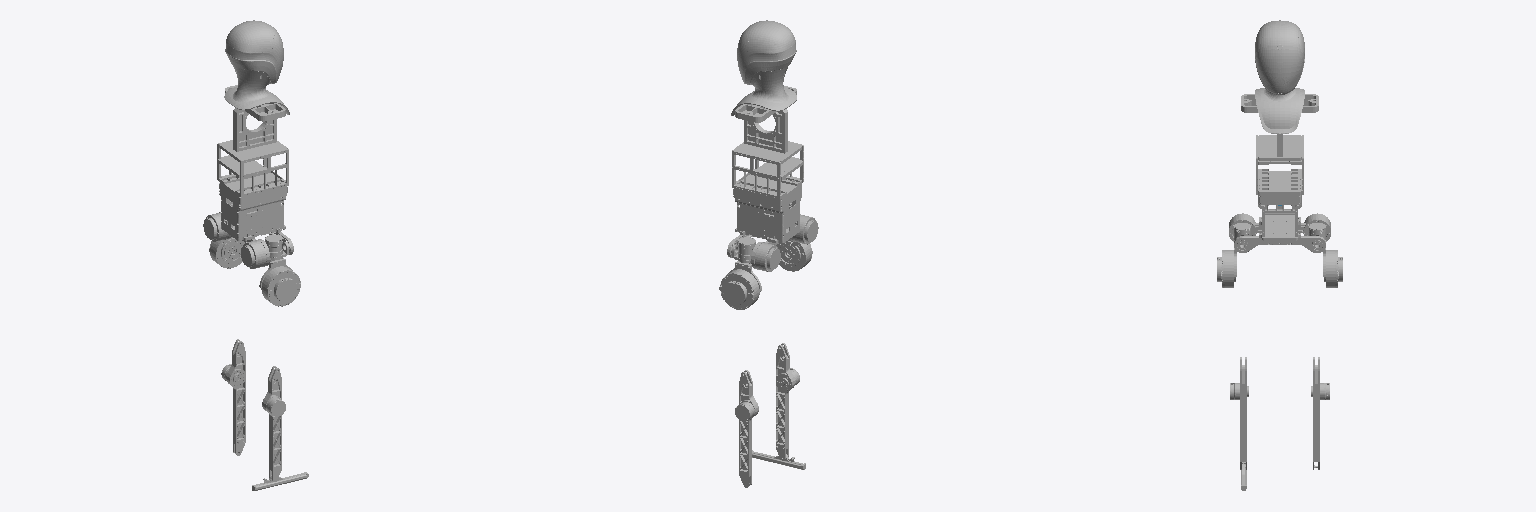
--- Facts derived from the render (not from the file) ---
3 views of the same robot in one strip: view 1: azimuth 30°, elevation 25°; view 2: azimuth 150°, elevation 25°; view 3: azimuth 270°, elevation 25° (orthographic).
Model robot with 16 links and 15 joints (10 revolute, 5 fixed), rooted at base_link, posed all joints at 0.
Links seen in each view (by area): view 1: base_link, leg_l4_link, leg_r4_link, leg_r2_link, leg_l2_link; view 2: base_link, leg_r4_link, leg_l4_link, leg_l2_link, leg_r2_link; view 3: base_link, leg_l4_link, leg_r4_link, leg_l2_link, leg_r2_link.
Boxes of the visible links, bbox=[...] form: base_link: bbox=[203, 20, 293, 268]; leg_l4_link: bbox=[221, 339, 245, 455]; leg_r4_link: bbox=[262, 366, 285, 481]; leg_r2_link: bbox=[259, 258, 300, 306]; leg_l2_link: bbox=[209, 237, 244, 268]; base_link: bbox=[727, 20, 818, 271]; leg_r4_link: bbox=[776, 343, 799, 460]; leg_l4_link: bbox=[735, 370, 758, 487]; leg_l2_link: bbox=[719, 261, 761, 309]; leg_r2_link: bbox=[776, 239, 812, 271]; base_link: bbox=[1229, 20, 1330, 252]; leg_l4_link: bbox=[1311, 357, 1329, 469]; leg_r4_link: bbox=[1230, 357, 1248, 469]; leg_l2_link: bbox=[1323, 248, 1342, 287]; leg_r2_link: bbox=[1217, 248, 1236, 287].
Bounding box of the posed robot: 0.2275 × 0.4072 × 1.59 m (x, y, z).
Meshes: 11 distinct files referenced, 8 mesh visuals loaded (8 binary STL); not drawn: 3 (reference not matched to a file when rendering).

The robot description file, URDF, robot "robot":
<?xml version="1.0" encoding="utf-8"?>
<robot name="">

  <!-- <link name="world" />
  <joint name ="weld" type="fixed">
    <parent link="world"/>
    <child link="base_link"/>
    <origin xyz="0 0 0.1"/>
  </joint> -->

  <gazebo>
    <plugin name="gazebo_ros_control" filename="libhunter_bipedal_hw_sim.so">
      <robotNamespace>/</robotNamespace>
      <robotParam>legged_robot_description</robotParam>
      <robotSimType>legged_gazebo/LeggedHWSim</robotSimType>
    </plugin>
  </gazebo>

  <gazebo>
    <plugin filename="libgazebo_ros_p3d.so" name="p3d_base_controller">
      <alwaysOn>true</alwaysOn>
      <updateRate>500.0</updateRate>
      <bodyName>base_link</bodyName>
      <topicName>ground_truth/state</topicName>
      <gaussianNoise>0</gaussianNoise>
      <frameName>world</frameName>
      <xyzOffsets>0 0 0</xyzOffsets>
      <rpyOffsets>0 0 0</rpyOffsets>
    </plugin>
  </gazebo>

  <link name="base_link">
    <inertial>
      <origin xyz="-0.00563454 -0.00001244 0.12092241" rpy="0 0 0" />
      <mass value="6.76592413" />
      <inertia ixx="0.29571510" ixy="0.00000157" ixz="-0.01321787" iyy="0.28435720" iyz="-0.00000827" izz="0.04562067" />
    </inertial>
    <visual>
      <origin xyz="0 0 0" rpy="0 0 0" />
      <geometry>
        <mesh
        filename="../meshes/base.STL" />
      </geometry>
      <material name="">
        <color rgba="0.75294 0.75294 0.75294 1" />
      </material>
    </visual>
    <collision>
      <origin xyz="0 0 0.3" rpy="0 0 0" />
      <geometry>
        <box size="0.24 0.2 0.68" /><!--宽 长 高!-->
      </geometry>
    </collision>
  </link>

  <!-- <joint name="battery_joint" type="fixed">
    <origin rpy="0. 0. 0." xyz="0. 0. 0"/>
    <parent link="base_link"/>
    <child link="battery_link"/>
  </joint>

  <link
    name="battery_link">
    <inertial>
      <origin xyz="0.00515714 0 -0.04298686" rpy="0 0 0" />
      <mass value="1.69361037" />
      <inertia ixx="0.00212168" ixy="0.00000006" ixz="0.00001365" iyy="0.00365784" iyz="-0.00000003" izz="0.0046202" />
    </inertial>
  </link> -->

  <!-- Imu is fixed to the base link -->
  <joint name="imu_joint" type="fixed">
    <origin rpy="0. 0. 0." xyz="0. 0. 0"/>
    <parent link="base_link"/>
    <child link="imu_link"/>
  </joint>
  <!-- Imu link -->
  <link name="imu_link">
    <inertial>
      <mass value="0.01"/>
      <origin rpy="0 0 0" xyz="0 0 0"/>
      <inertia ixx="0.000001" ixy="0" ixz="0" iyy="0.000001" iyz="0" izz="0.000001"/>
    </inertial>
    <visual>
      <origin rpy="0 0 0" xyz="0 0 0"/>
      <geometry>
        <box size="0.015 0.015 0.004"/>
      </geometry>
    </visual>
    <material name="orange">
      <color rgba="255 108 10 255"/>
    </material>
  </link>
  <gazebo reference="imu_joint">
    <disableFixedJointLumping>true</disableFixedJointLumping>
  </gazebo>

  <!-- ************************************************************ -->
  <!-- ************************ Left Leg ************************** -->
  <!-- ************************************************************ -->

  <!-- ************* part 1 *************** -->
  <joint name="leg_l1_joint" type="revolute">
    <origin xyz="0.0065 0.12 -0.1166" rpy="0 0 0" />
    <parent link="base_link" />
    <child link="leg_l1_link" />
    <axis xyz="1 0 0" />
    <dynamics damping="0.00" friction="0.2"/>
    <limit lower="-0.2" upper="0.5" effort="12.1" velocity="25.1" />
  </joint>
  <link name="leg_l1_link">
    <inertial>
      <origin xyz="0.00124797 0.00000602 0.00247008" rpy="0 0 0" />
      <mass value="0.48411139" />
      <inertia ixx="0.00024891" ixy="0.00000022" ixz="0.00000644" iyy="0.00036981" iyz="0.00000091" izz="0.00032850" />
    </inertial>
    <visual>
      <origin xyz="0 0 0" rpy="0 0 0" />
      <geometry>
        <mesh filename="../meshes/leg_l1.STL" />
      </geometry>
      <material name="">
        <color rgba="0.75294 0.75294 0.75294 1" />
      </material>
    </visual>
    <collision>
      <origin xyz="-0.019 -0.001 0" rpy="1.57 0 1.57" />
      <geometry>
        <box size="0.06 0.07 0.155" />
      </geometry>
    </collision>
  </link>

  <!-- ************* part 2 *************** -->
  <joint name="leg_l2_joint" type="revolute">
    <origin xyz="0 0 -0.0295" rpy="0 0 0" />
    <parent link="leg_l1_link" />
    <child link="leg_l2_link" />
    <axis xyz="0 0 1" />
    <dynamics damping="0.00" friction="0.2"/>
    <limit lower="-0.5" upper="1" effort="36.1" velocity="8.1" />
  </joint>
  <link name="leg_l2_link">
    <inertial>
      <origin xyz="0 0.04198981 -0.07596353" rpy="0 0 0" />
      <mass value="1.48516585" />
      <inertia ixx="0.00213438" ixy="0" ixz="0.00000003" iyy="0.00315551" iyz="0.00023219" izz="0.00173118" />
    </inertial>
    <visual>
      <origin xyz="0 0 0" rpy="0 0 0" />
      <geometry>
        <mesh filename="../meshes/leg_l2.STL" />
      </geometry>
      <material name="">
        <color rgba="0.75294 0.75294 0.75294 1" />
      </material>
    </visual>
    <collision>
      <origin xyz="0 0.0046 -0.07" rpy="1.57 0 0" />
      <geometry>
        <cylinder length="0.146" radius="0.065"/>
      </geometry>
    </collision>
  </link>

  <!-- ************* part 3 *************** -->
  <joint name="leg_l3_joint" type="revolute">
    <origin xyz="0.0 -0.0035 -0.081" rpy="0 0 0" />
    <parent link="leg_l2_link" />
    <child link="leg_l3_link" />
    <axis xyz="0 -1 0" />
    <dynamics damping="0.00" friction="0.2"/>
    <limit lower="-0.8" upper="1.2" effort="150.1" velocity="12.6" />
  </joint>
  <link name="leg_l3_link">
    <inertial>
      <origin xyz="0.00386769 -0.02792999 -0.04011025" rpy="0 0 0" />
      <mass value="2.38394353" />
      <inertia ixx="0.02170874" ixy="-0.00020223" ixz="0.00141826" iyy="0.02270032" iyz="0.00207653" izz="0.00378059" />
    </inertial>
    <visual>
      <origin xyz="0 0 0" rpy="0 0 0" />
      <geometry>
        <mesh filename="../meshes/leg_l3.STL" />
      </geometry>
      <material name="">
        <color rgba="0.75294 0.75294 0.75294 1" />
      </material>
    </visual>
    <collision>
      <origin xyz="0.015 0.0 -0.17" rpy="1.57 0 0" />
      <geometry>
        <box size="0.06 0.25 0.05" />
      </geometry>
    </collision>
  </link>

  <!-- ************* part 4 *************** -->
  <joint name="leg_l4_joint" type="revolute">
    <origin xyz="0 0 -0.35" rpy="0 0 0" />
    <parent link="leg_l3_link" />
    <child link="leg_l4_link" />
    <axis xyz="0 1 0" />
    <dynamics damping="0" friction="0.2"/>
    <limit lower="0" upper="1.5" effort="150.1" velocity="12.6" />
  </joint>
  <link name="leg_l4_link">
    <inertial>
      <origin xyz="-0.00223740 0.00243432 -0.11735483" rpy="0 0 0" />
      <mass value="0.760136154" />
      <!-- <mass value="0.80136154" /> -->
      <inertia ixx="0.00708282" ixy="-0.0000173" ixz="0.00003185" iyy="0.00714764" iyz="-0.00015267" izz="0.0003965" />
    </inertial>
    <visual>
      <origin xyz="0 0 0" rpy="0 0 0" />
      <geometry>
        <mesh filename="../meshes/leg_l4.STL" />
      </geometry>
      <material name="">
        <color rgba="0.75294 0.75294 0.75294 1" />
      </material>
    </visual>
    <collision>
      <origin xyz="0 0 -0.14" rpy="1.57 0 0" />
      <geometry>
        <box size="0.041 0.28 0.03" />
      </geometry>
    </collision>
    <collision>
      <origin xyz="-0.011 0.012 -0.08" rpy="1.57 0 0" />
      <geometry>
        <cylinder length="0.07" radius="0.034"/>
      </geometry>
    </collision>
  </link>

  <!-- ************* part 5 *************** -->
  <joint name="leg_l5_joint" type="revolute">
    <origin xyz="0 0 -0.35" rpy="0 0 0" />
    <parent link="leg_l4_link" />
    <child link="leg_l5_link" />
    <axis xyz="0 -1 0" />
    <dynamics damping="0.00" friction="0.2"/>
    <limit lower="-1.1" upper="1.1" effort="36.1" velocity="8.1" />
  </joint>
  <link name="leg_l5_link">
    <inertial>
      <origin xyz="0.02200082 0 -0.01610384" rpy="0 0 0" />
      <mass value="0.11947294" />
      <inertia ixx="0.00000829" ixy="0" ixz="0.00000461" iyy="0.0003708" iyz="0" izz="0.00036831" />
    </inertial>
    <visual>
      <origin xyz="0 0 0" rpy="0 0 0" />
      <geometry>
        <mesh filename="../meshes/leg_l5.STL" />
      </geometry>
      <material name="">
        <color rgba="0.75294 0.75294 0.75294 1" />
      </material>
    </visual>
    <collision>
      <origin xyz="0.02 0 -0.0102" rpy="1.57 0 0" />
      <geometry>
        <box size="0.21 0.0345 0.0175" />
      </geometry>
    </collision>
  </link>

  <joint name="leg_l5_fixed_1" type="fixed">
    <origin xyz="0.11 0 -0.01" rpy="0 0 0" />
    <parent link="leg_l5_link" />
    <child link="leg_l_f1_link" />
  </joint>
  <link name="leg_l_f1_link">
    <inertial>
      <mass value="0.01" />
      <inertia ixx="0.000001" ixy="0" ixz="0" iyy="0.000001" iyz="0" izz="0.000001" />
    </inertial>
    <visual>
      <origin rpy="0 0 0" xyz="0 0 0"/>
      <geometry>
        <sphere radius="0.001"/>
      </geometry>
    </visual>
    <collision>
      <origin rpy="0 0 0" xyz="0 0 0"/>
      <geometry>
        <sphere radius="0.001"/>
      </geometry>
    </collision>
  </link>

  <joint name="leg_l5_fixed_2" type="fixed">
    <origin xyz="-0.07 0 -0.01" rpy="0 0 0" />
    <parent link="leg_l5_link" />
    <child link="leg_l_f2_link" />
  </joint>
  <link name="leg_l_f2_link">
    <inertial>
      <mass value="0.01" />
      <inertia ixx="0.000001" ixy="0" ixz="0" iyy="0.000001" iyz="0" izz="0.000001" />
    </inertial>
    <visual>
      <origin rpy="0 0 0" xyz="0 0 0"/>
      <geometry>
        <sphere radius="0.001"/>
      </geometry>
    </visual>
    <collision>
      <origin rpy="0 0 0" xyz="-0 0 0"/>
      <geometry>
        <sphere radius="0.001"/>
      </geometry>
    </collision>
  </link>

  <gazebo reference="leg_l1_link">
    <mu1>0.6</mu1>
    <mu2>0.6</mu2>
    <self_collide>1</self_collide>
  </gazebo>
  <gazebo reference="leg_l2_link">
    <mu1>0.6</mu1>
    <mu2>0.6</mu2>
    <self_collide>1</self_collide>
  </gazebo>
  <gazebo reference="leg_l3_link">
    <mu1>0.6</mu1>
    <mu2>0.6</mu2>
    <self_collide>1</self_collide>
  </gazebo>
  <gazebo reference="leg_l4_link">
    <mu1>0.6</mu1>
    <mu2>0.6</mu2>
    <self_collide>1</self_collide>
  </gazebo>
  <gazebo reference="leg_l5_link">
    <mu1>1.5</mu1>
    <mu2>1.5</mu2>
    <self_collide>1</self_collide>
    <kp value="1000000.0"/>
    <kd value="100.0"/>
    <maxVel>1.0</maxVel>
    <minDepth>0.00</minDepth>
  </gazebo>
  <gazebo reference="leg_l_f1_link">
    <mu1>1.5</mu1>
    <mu2>1.5</mu2>
    <self_collide>1</self_collide>
    <kp value="1000000.0"/>
    <kd value="100.0"/>
    <maxVel>1.0</maxVel>
    <minDepth>0.00</minDepth>
  </gazebo>
  <gazebo reference="leg_l_f2_link">
    <mu1>1.5</mu1>
    <mu2>1.5</mu2>
    <self_collide>1</self_collide>
    <kp value="1000000.0"/>
    <kd value="100.0"/>
    <maxVel>1.0</maxVel>
    <minDepth>0.00</minDepth>
  </gazebo>

  <transmission name="leg_l1_tran">
    <type>transmission_interface/SimpleTransmission</type>
    <joint name="leg_l1_joint">
      <hardwareInterface>hardware_interface/EffortJointInterface</hardwareInterface>
    </joint>
    <actuator name="leg_l1_motor">
      <hardwareInterface>hardware_interface/EffortJointInterface</hardwareInterface>
      <mechanicalReduction>1</mechanicalReduction>
    <maxVelocity>1.484</maxVelocity><!-- 85rpm -->
	  <maxEffort>36.0</maxEffort><!-- 36Nm -->
    </actuator>
  </transmission>

  <transmission name="leg_l2_tran">
    <type>transmission_interface/SimpleTransmission</type>
    <joint name="leg_l2_joint">
      <hardwareInterface>hardware_interface/EffortJointInterface</hardwareInterface>
    </joint>
    <actuator name="leg_l2_motor">
      <hardwareInterface>hardware_interface/EffortJointInterface</hardwareInterface>
      <mechanicalReduction>1</mechanicalReduction>
    <maxVelocity>1.484</maxVelocity><!-- 160rpm -->
	  <maxEffort>36.0</maxEffort><!-- 94Nm -->
    </actuator>
  </transmission>

  <transmission name="leg_l3_tran">
    <type>transmission_interface/SimpleTransmission</type>
    <joint name="leg_l3_joint">
      <hardwareInterface>hardware_interface/EffortJointInterface</hardwareInterface>
    </joint>
    <actuator name="leg_l3_motor">
      <hardwareInterface>hardware_interface/EffortJointInterface</hardwareInterface>
      <mechanicalReduction>1</mechanicalReduction>
    <maxVelocity>2.6545</maxVelocity><!-- 160rpm -->
	  <maxEffort>150.0</maxEffort><!-- 94Nm -->
    </actuator>
  </transmission>

  <transmission name="leg_l4_tran">
    <type>transmission_interface/SimpleTransmission</type>
    <joint name="leg_l4_joint">
      <hardwareInterface>hardware_interface/EffortJointInterface</hardwareInterface>
    </joint>
    <actuator name="leg_l4_motor">
      <hardwareInterface>hardware_interface/EffortJointInterface</hardwareInterface>
      <mechanicalReduction>1</mechanicalReduction>
    <maxVelocity>2.6545</maxVelocity><!-- 85rpm -->
	<maxEffort>150.0</maxEffort><!-- 36Nm -->
    </actuator>
  </transmission>

  <transmission name="leg_l5_tran">
    <type>transmission_interface/SimpleTransmission</type>
    <joint name="leg_l5_joint">
      <hardwareInterface>hardware_interface/EffortJointInterface</hardwareInterface>
    </joint>
    <actuator name="leg_l5_motor">
      <hardwareInterface>hardware_interface/EffortJointInterface</hardwareInterface>
      <mechanicalReduction>1</mechanicalReduction>
    </actuator>
  </transmission>
  <!-- ************************************************************ -->
  <!-- ************************ Right Leg ************************** -->
  <!-- ************************************************************ -->

  <!-- ************* part 1 *************** -->
  <joint name="leg_r1_joint" type="revolute">
    <origin xyz="0.0065 -0.12 -0.1166" rpy="0 0 0" />
    <parent link="base_link" />
    <child link="leg_r1_link" />
    <axis xyz="1 0 0" />
    <dynamics damping="0.00" friction="0.2"/>
    <limit lower="-0.5" upper="0.2" effort="12.1" velocity="25.1" />
  </joint>
  <link name="leg_r1_link">
    <inertial>
      <origin xyz="0.00126545 -0.00000555 0.00247008" rpy="0 0 0" />
      <mass value="0.48411139" />
      <inertia ixx="0.00024879" ixy="-0.00000081" ixz="0.00000629" iyy="0.00036991" iyz="-0.00000142" izz="0.00032847" />
    </inertial>
    <visual>
      <origin xyz="0 0 0" rpy="0 0 0" />
      <geometry>
        <mesh filename="../meshes/leg_r1.STL" />
      </geometry>
      <material name="">
        <color rgba="0.75294 0.75294 0.75294 1" />
      </material>
    </visual>
    <collision>
      <origin xyz="-0.019 -0.001 0" rpy="1.57 0 1.57" />
      <geometry>
        <box size="0.06 0.07 0.155" />
      </geometry>
    </collision>
  </link>

  <!-- ************* part 2 *************** -->
  <joint name="leg_r2_joint" type="revolute">
    <origin xyz="0 0 -0.0295" rpy="0 0 0" />
    <parent link="leg_r1_link" />
    <child link="leg_r2_link" />
    <axis xyz="0 0 1" />
    <dynamics damping="0.00" friction="0.2"/>
    <limit lower="-1" upper="0.5" effort="36.1" velocity="8.1" />
  </joint>
  <link name="leg_r2_link">
    <inertial>
      <origin xyz="0 -0.04198981 -0.07596353" rpy="0 0 0" />
      <mass value="1.48516585" />
      <inertia ixx="0.00213438" ixy="0" ixz="-0.00000003" iyy="0.00315551" iyz="-0.00023219" izz="0.00173118" />
    </inertial>
    <visual>
      <origin xyz="0 0 0" rpy="0 0 0" />
      <geometry>
        <mesh filename="../meshes/leg_r2.STL" />
      </geometry>
      <material name="">
        <color rgba="0.75294 0.75294 0.75294 1" />
      </material>
    </visual>
    <collision>
      <origin xyz="0 -0.0033 -0.07" rpy="1.57 0 0" />
      <geometry>
        <cylinder length="0.146" radius="0.065"/>
      </geometry>
    </collision>
  </link>

  <!-- ************* part 3 *************** -->
  <joint name="leg_r3_joint" type="revolute">
    <origin xyz="0 0.0035 -0.081" rpy="0 0 0" />
    <parent link="leg_r2_link" />
    <child link="leg_r3_link" />
    <axis xyz="0 1 0" />
    <dynamics damping="0.00" friction="0.2"/>
    <limit lower="-1.2" upper="0.8" effort="150.1" velocity="12.6" />
  </joint>
  <link name="leg_r3_link">
    <inertial>
      <origin xyz="0.00386769 0.0328192999 -0.0413911025" rpy="0 0 0" />
      <mass value="2.38394353" />
      <inertia ixx="0.02170874" ixy="0.00020223" ixz="0.00141826" iyy="0.02270032" iyz="-0.00207653" izz="0.00378059" />
    </inertial>
    <visual>
      <origin xyz="0 0 0" rpy="0 0 0" />
      <geometry>
        <mesh filename="../meshes/leg_r3.STL" />
      </geometry>
      <material name="">
        <color rgba="0.75294 0.75294 0.75294 1" />
      </material>
    </visual>
    <collision>
      <origin xyz="0.015 0.0 -0.17" rpy="1.57 0 0" />
      <geometry>
        <box size="0.06 0.25 0.05" />
      </geometry>
    </collision>
  </link>

  <!-- ************* part 4 *************** -->
  <joint name="leg_r4_joint" type="revolute">
    <origin xyz="0 0 -0.35" rpy="0 0 0" />
    <parent link="leg_r3_link" />
    <child link="leg_r4_link" />
   <axis xyz="0 1 0" />
   <dynamics damping="0.00" friction="0.2"/>
    <limit lower="0" upper="1.5" effort="150.1" velocity="12.6" />
  </joint>
  <link name="leg_r4_link">
    <inertial>
      <origin xyz="-0.00223740 -0.00243432 -0.12735483" rpy="0 0 0" />
      <mass value="0.760136154" />
      <!-- <mass value="0.80136154" /> -->
      <inertia ixx="0.00708921" ixy="0.00001694" ixz="0.00003157" iyy="0.00715410" iyz="0.00015332" izz="0.00039657" />
    </inertial>
    <visual>
      <origin xyz="0 0 0" rpy="0 0 0" />
      <geometry>
        <mesh filename="../meshes/leg_r4.STL" />
      </geometry>
      <material name="">
        <color rgba="0.75294 0.75294 0.75294 1" />
      </material>
    </visual>
    <collision>
      <origin xyz="0 0 -0.14" rpy="1.57 0 0" />
      <geometry>
        <box size="0.041 0.28 0.03" />
      </geometry>
    </collision>
    <collision>
      <origin xyz="-0.011 -0.012 -0.08" rpy="1.57 0 0" />
      <geometry>
        <cylinder length="0.07" radius="0.034"/>
      </geometry>
    </collision>
  </link>

  <!-- ************* part 5 *************** -->
  <joint name="leg_r5_joint" type="revolute">
    <origin xyz="0 0 -0.35" rpy="0 0 0" />
    <parent link="leg_r4_link" />
    <child link="leg_r5_link" />
    <axis xyz="0 1 0" />
    <dynamics damping="0.00" friction="0.2"/>
    <limit lower="-1.1" upper="1.1" effort="36.1" velocity="8.1" />
  </joint>
  <link name="leg_r5_link">
    <inertial>
      <origin xyz="0.02200082 0 -0.01610384" rpy="0 0 0" />
      <mass value="0.11947294" />
      <inertia ixx="0.00000829" ixy="0" ixz="0.00000461" iyy="0.0003708" iyz="0" izz="0.00036831" />
    </inertial>
    <visual>
      <origin xyz="0 0 0" rpy="0 0 0" />
      <geometry>
        <mesh filename="../meshes/leg_r5.STL" />
      </geometry>
      <material name="">
        <color rgba="0.75294 0.75294 0.75294 1" />
      </material>
    </visual>
    <collision>
      <origin xyz="0.02 0 -0.0102" rpy="1.57 0 0" />
      <geometry>
        <box size="0.21 0.0345 0.0175" />
        </geometry>
    </collision>
  </link>

  <joint name="leg_r5_fixed_1" type="fixed">
    <origin xyz="0.11 0 -0.01" rpy="0 0 0" />
    <parent link="leg_r5_link" />
    <child link="leg_r_f1_link" />
  </joint>
  <link name="leg_r_f1_link">
    <inertial>
      <mass value="0.01" />
      <inertia ixx="0.000001" ixy="0" ixz="0" iyy="0.000001" iyz="0" izz="0.000001" />
    </inertial>
    <visual>
      <origin rpy="0 0 0" xyz="0 0 0"/>
      <geometry>
        <sphere radius="0.001"/>
      </geometry>
    </visual>
    <collision>
      <origin rpy="0 0 0" xyz="0 0 0"/>
      <geometry>
        <sphere radius="0.001"/>
      </geometry>
    </collision>
  </link>

  <joint name="leg_r5_fixed_2" type="fixed">
    <origin xyz="-0.07 0 -0.01" rpy="0 0 0" />
    <parent link="leg_r5_link" />
    <child link="leg_r_f2_link" />
  </joint>
  <link name="leg_r_f2_link">
    <inertial>
      <mass value="0.01" />
      <inertia ixx="0.000001" ixy="0" ixz="0" iyy="0.000001" iyz="0" izz="0.000001" />
    </inertial>
    <visual>
      <origin rpy="0 0 0" xyz="0 0 0"/>
      <geometry>
        <sphere radius="0.001"/>
      </geometry>
    </visual>
    <collision>
      <origin rpy="0 0 0" xyz="0 0 0"/>
      <geometry>
        <sphere radius="0.001"/>
      </geometry>
    </collision>
  </link>

  <gazebo reference="leg_r1_link">
    <mu1>0.6</mu1>
    <mu2>0.6</mu2>
    <self_collide>1</self_collide>
  </gazebo>
  <gazebo reference="leg_r2_link">
    <mu1>0.6</mu1>
    <mu2>0.6</mu2>
    <self_collide>1</self_collide>
  </gazebo>
  <gazebo reference="leg_r3_link">
    <mu1>0.6</mu1>
    <mu2>0.6</mu2>
    <self_collide>1</self_collide>
  </gazebo>
  <gazebo reference="leg_r4_link">
    <mu1>0.6</mu1>
    <mu2>0.6</mu2>
    <self_collide>1</self_collide>
  </gazebo>
  <gazebo reference="leg_r5_link">
    <mu1>1.5</mu1>
    <mu2>1.5</mu2>
    <self_collide>1</self_collide>
    <kp value="1000000.0"/>
    <kd value="100.0"/>
    <maxVel>1.0</maxVel>
    <minDepth>0.00</minDepth>
  </gazebo>
  <gazebo reference="leg_r_f1_link">
    <mu1>1.5</mu1>
    <mu2>1.5</mu2>
    <self_collide>1</self_collide>
    <kp value="1000000.0"/>
    <kd value="100.0"/>code 
    <maxVel>1.0</maxVel>
    <minDepth>0.00</minDepth>
  </gazebo>
  <gazebo reference="leg_r_f2_link">
    <mu1>1.5</mu1>
    <mu2>1.5</mu2>
    <self_collide>1</self_collide>
    <kp value="1000000.0"/>
    <kd value="100.0"/>
    <maxVel>1.0</maxVel>
    <minDepth>0.00</minDepth>
  </gazebo>

  <transmission name="leg_r1_tran">
    <type>transmission_interface/SimpleTransmission</type>
    <joint name="leg_r1_joint">
      <hardwareInterface>hardware_interface/EffortJointInterface</hardwareInterface>
    </joint>
    <actuator name="leg_r1_motor">
      <hardwareInterface>hardware_interface/EffortJointInterface</hardwareInterface>
      <mechanicalReduction>1</mechanicalReduction>
      	  <maxVelocity>1.484</maxVelocity><!-- 85rpm -->
	<maxEffort>36.0</maxEffort><!-- 36Nm -->
    </actuator>
  </transmission>

  <transmission name="leg_r2_tran">
    <type>transmission_interface/SimpleTransmission</type>
    <joint name="leg_r2_joint">
      <hardwareInterface>hardware_interface/EffortJointInterface</hardwareInterface>
    </joint>
    <actuator name="leg_r2_motor">
      <hardwareInterface>hardware_interface/EffortJointInterface</hardwareInterface>
      <mechanicalReduction>1</mechanicalReduction>
      	  <maxVelocity>1.484</maxVelocity><!-- 160rpm -->
	  <maxEffort>36.0</maxEffort><!-- 94Nm -->
    </actuator>
  </transmission>

  <transmission name="leg_r3_tran">
    <type>transmission_interface/SimpleTransmission</type>
    <joint name="leg_r3_joint">
      <hardwareInterface>hardware_interface/EffortJointInterface</hardwareInterface>
    </joint>
    <actuator name="leg_r3_motor">
      <hardwareInterface>hardware_interface/EffortJointInterface</hardwareInterface>
      <mechanicalReduction>1</mechanicalReduction>
      	  <maxVelocity>2.6545</maxVelocity><!-- 160rpm -->
	  <maxEffort>150.0</maxEffort><!-- 94Nm -->
    </actuator>
  </transmission>

  <transmission name="leg_r4_tran">
    <type>transmission_interface/SimpleTransmission</type>
    <joint name="leg_r4_joint">
      <hardwareInterface>hardware_interface/EffortJointInterface</hardwareInterface>
    </joint>
    <actuator name="leg_r4_motor">
      <hardwareInterface>hardware_interface/EffortJointInterface</hardwareInterface>
      <mechanicalReduction>1</mechanicalReduction>
      	  <maxVelocity>2.6545</maxVelocity><!-- 85rpm -->
	<maxEffort>150.0</maxEffort><!-- 36Nm -->
    </actuator>
  </transmission>

  <transmission name="leg_r5_tran">
    <type>transmission_interface/SimpleTransmission</type>
    <joint name="leg_r5_joint">
      <hardwareInterface>hardware_interface/EffortJointInterface</hardwareInterface>
    </joint>
    <actuator name="leg_r5_motor">
      <hardwareInterface>hardware_interface/EffortJointInterface</hardwareInterface>
      <mechanicalReduction>1</mechanicalReduction>
    </actuator>
  </transmission>

</robot>
